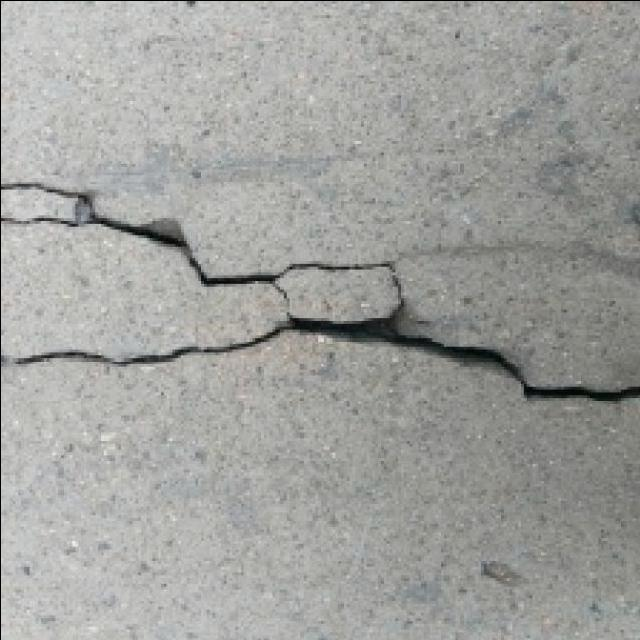SurfaceCrack: (0, 172, 638, 430)
